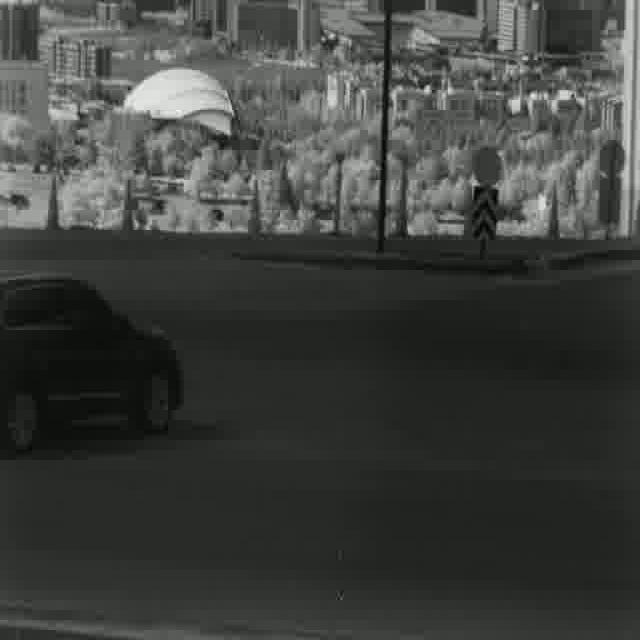Car: (0, 265, 186, 446)
